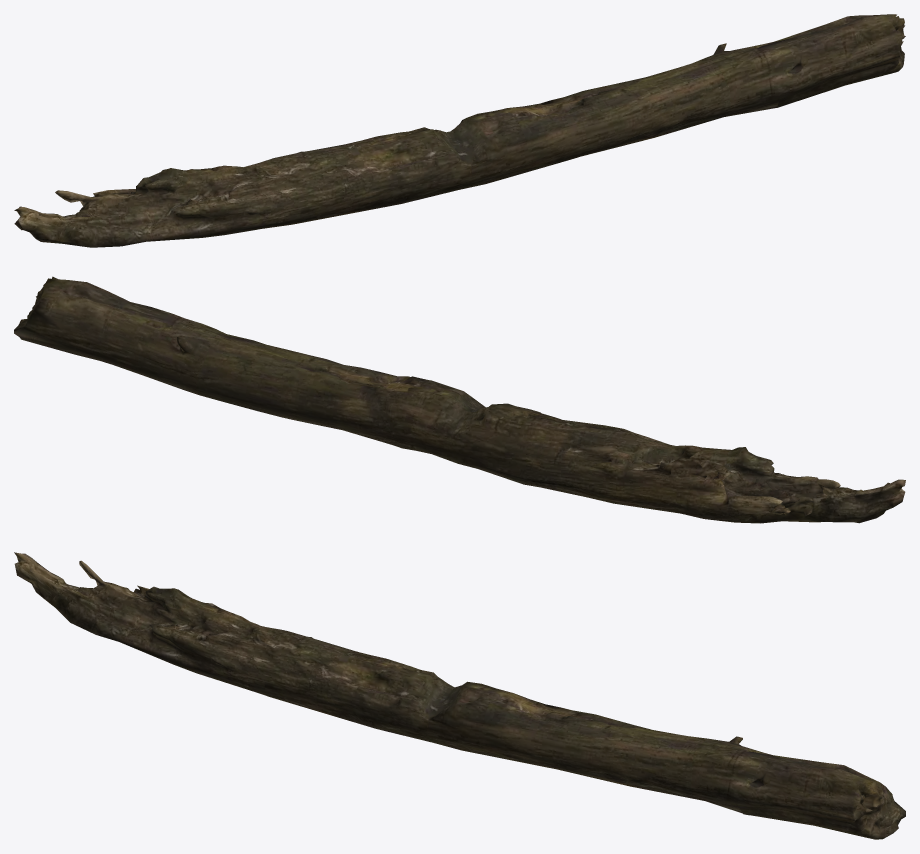
The model's file is dead_tree_trunk.glb.
3 views of the same model, one above another, from view 1: azimuth 30°, elevation 25°; view 2: azimuth 150°, elevation 25°; view 3: azimuth 330°, elevation 25° (orthographic).
Visible parts, largest first — view 1: dead_tree_trunk; view 2: dead_tree_trunk; view 3: dead_tree_trunk.
Boxes of the visible parts, x1=… form: dead_tree_trunk: x1=14, y1=14, x2=905, y2=247; dead_tree_trunk: x1=14, y1=276, x2=905, y2=523; dead_tree_trunk: x1=14, y1=552, x2=905, y2=839.
Size of the model in its own units: 3.05 by 0.2867 by 0.2763.
Materials: 1 (1 with a texture image).
